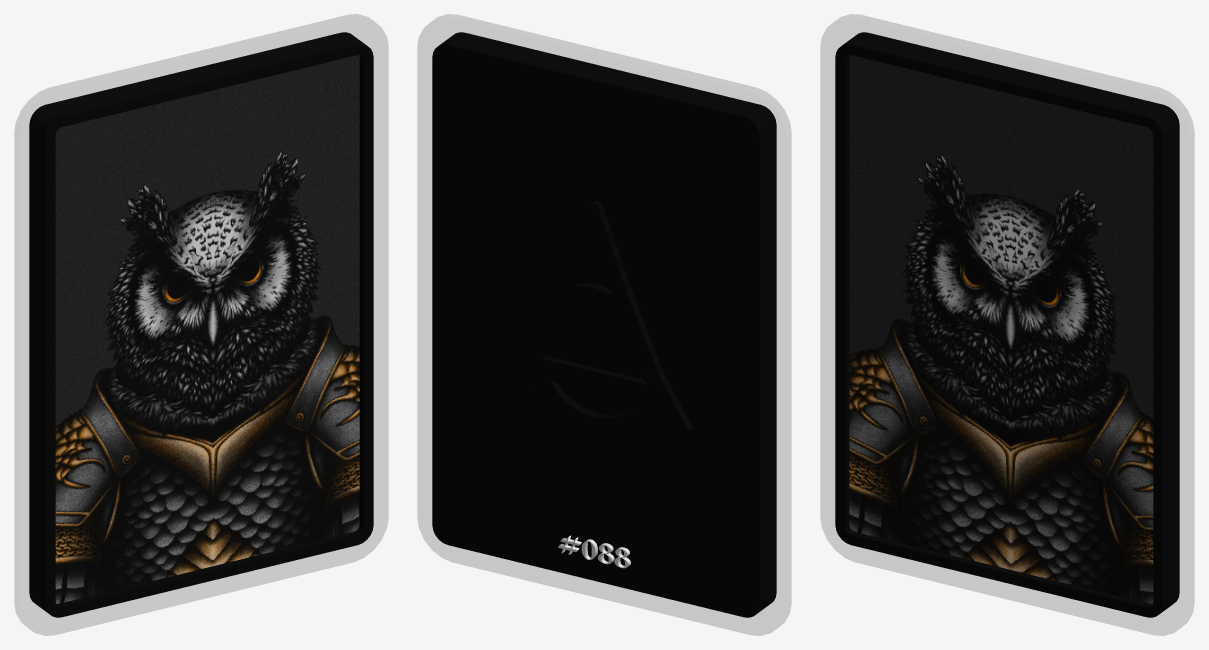
The picture shows the model from 3 angles, left to right: view 1: azimuth 30°, elevation 25°; view 2: azimuth 150°, elevation 25°; view 3: azimuth 330°, elevation 25°; orthographic projection.
Visible parts, largest first — view 1: Card.147, CardBorder.147; view 2: Card.147, CardBorder.147, Площина.040, Текст; view 3: Card.147, CardBorder.147.
Part boxes in pixels (x1,y1,x2,y2): Card.147: (29, 32, 373, 617); CardBorder.147: (15, 14, 387, 635); Card.147: (432, 32, 776, 617); CardBorder.147: (418, 14, 790, 635); Площина.040: (500, 200, 692, 436); Текст: (558, 535, 630, 568); Card.147: (835, 32, 1179, 617); CardBorder.147: (821, 14, 1193, 635).
Bounding box in the file's own units: 1.1 × 1.55 × 0.1091.
Materials: 5 (1 with a texture image).
